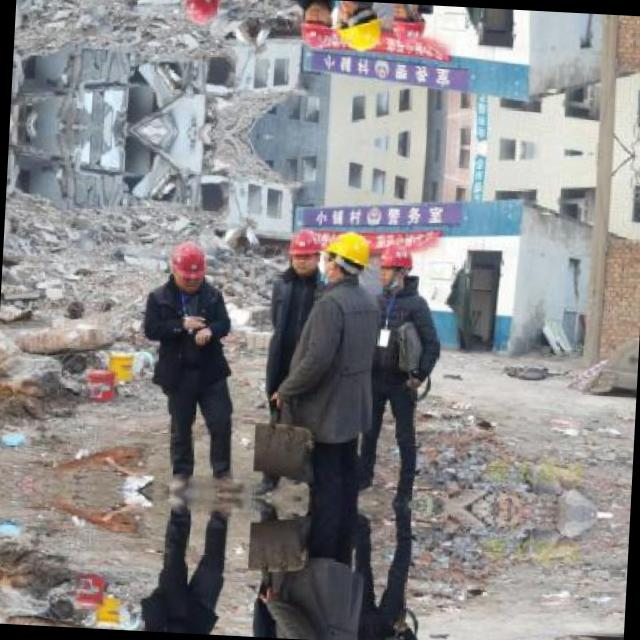helmet: (332, 1, 382, 54), (322, 227, 368, 283), (166, 239, 206, 292), (376, 240, 412, 291), (284, 228, 322, 276), (296, 0, 334, 48), (388, 4, 426, 46), (180, 0, 220, 25)
